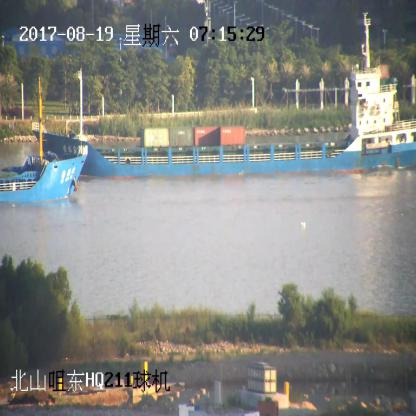Bulk Carrier: (32, 42, 416, 176), (0, 68, 86, 202)
